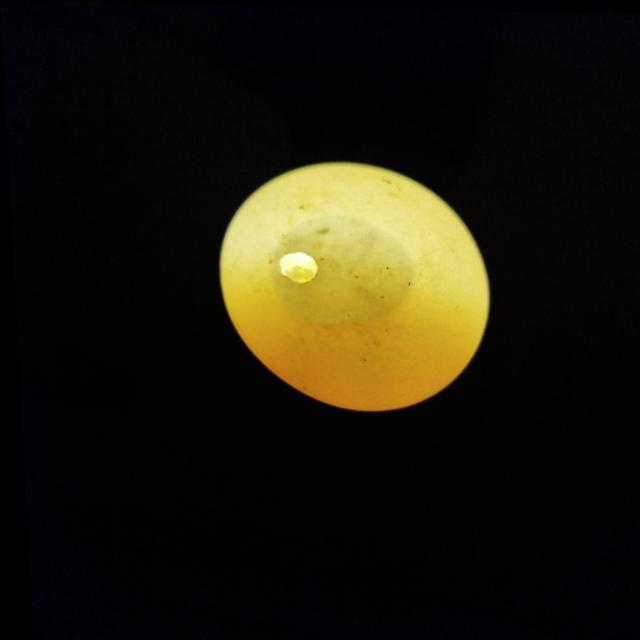Camara de Ar: (265, 215, 412, 324)
